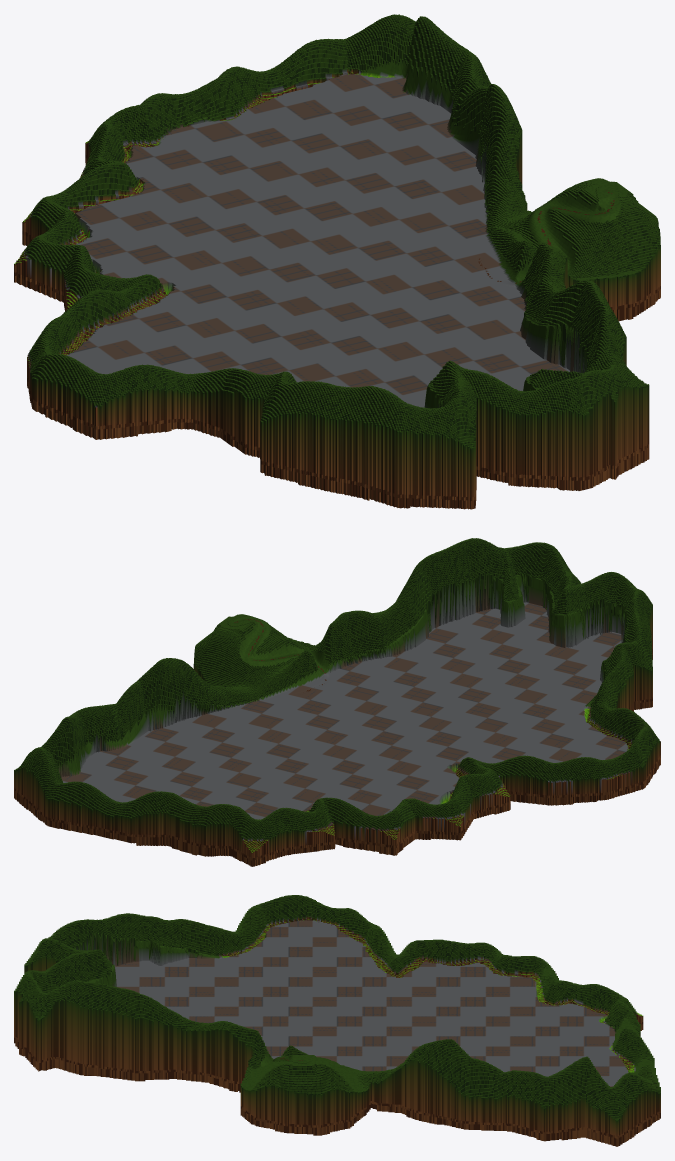
File: SM_Mapa_081.fbx
3 views of the same model, one above another, from view 1: azimuth 30°, elevation 25°; view 2: azimuth 150°, elevation 25°; view 3: azimuth 270°, elevation 25° (orthographic). The views are drawn at different scales.
Visible parts, largest first — view 1: SM_Mapa_081_Graded; view 2: SM_Mapa_081_Graded; view 3: SM_Mapa_081_Graded.
Part boxes in pixels (<box>): SM_Mapa_081_Graded: <box>14,14,660,509</box>; SM_Mapa_081_Graded: <box>14,538,660,866</box>; SM_Mapa_081_Graded: <box>14,895,660,1146</box>.
Size of the model in its own units: 4776 by 6096 by 915.
